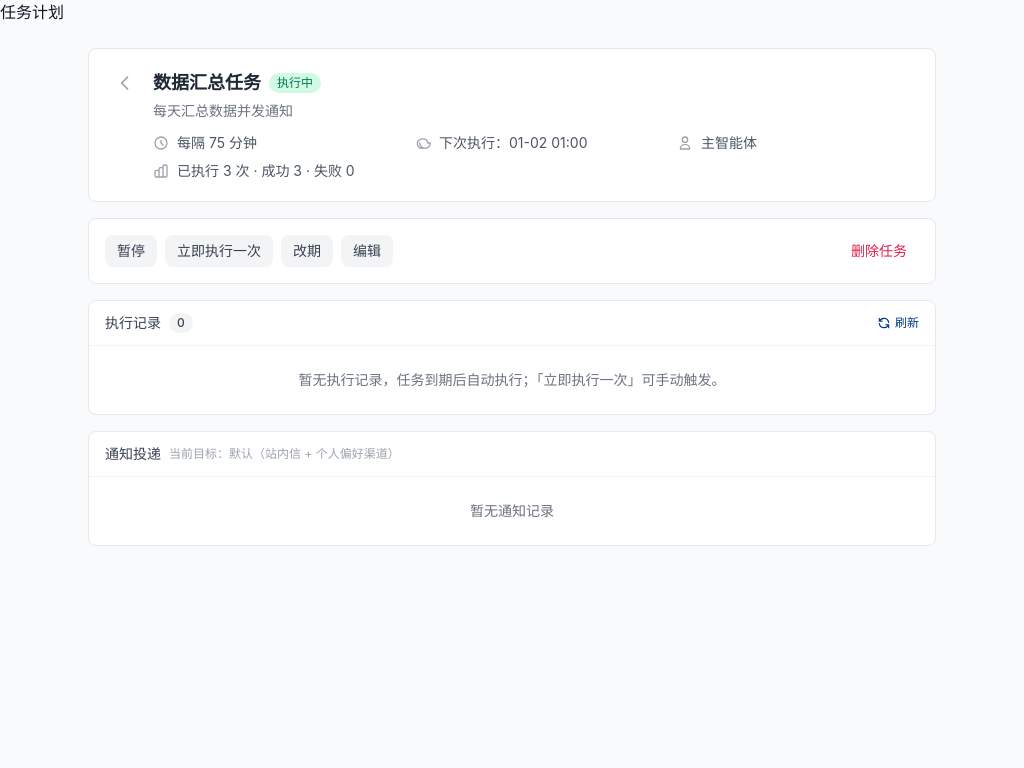
Test: TaskPlanView - 评审修复回归 › P2-6 interval 改期分钟精度预填：4500s → 75 分钟（不再被小时舍入）
The image size is (1024, 768).
Click the button "改期".
click(307, 251)  # box [281,235,333,267]
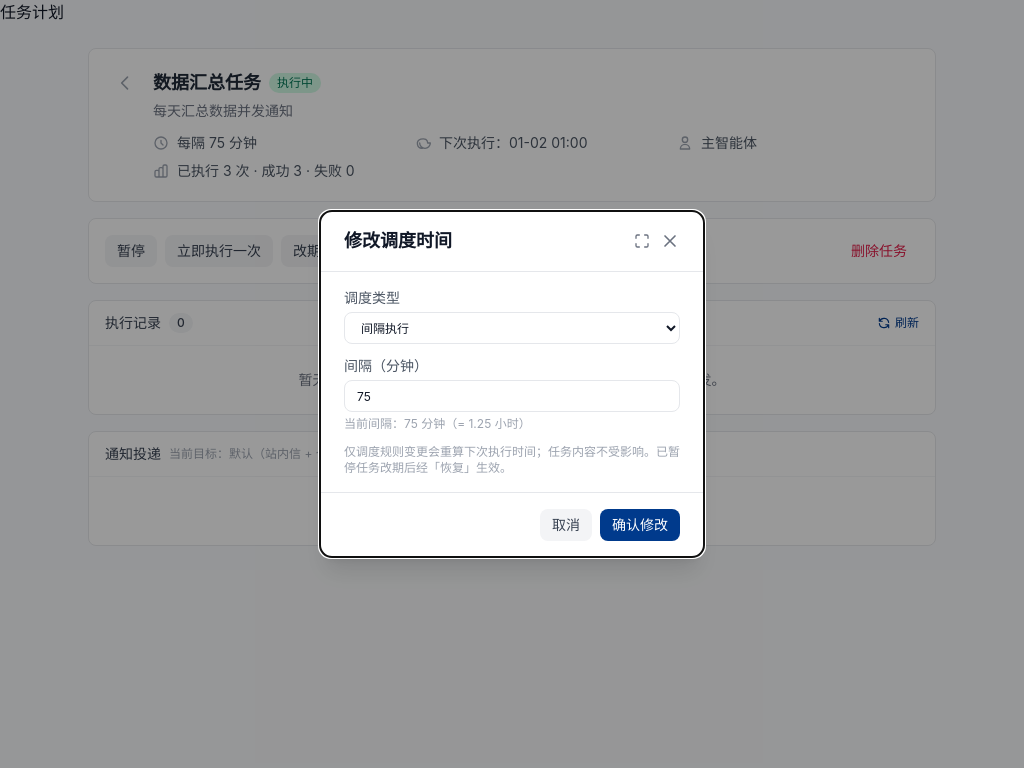
Expected: the number field with id "task-plan-interval-minutes" holds "75", [344,380,680,412]
